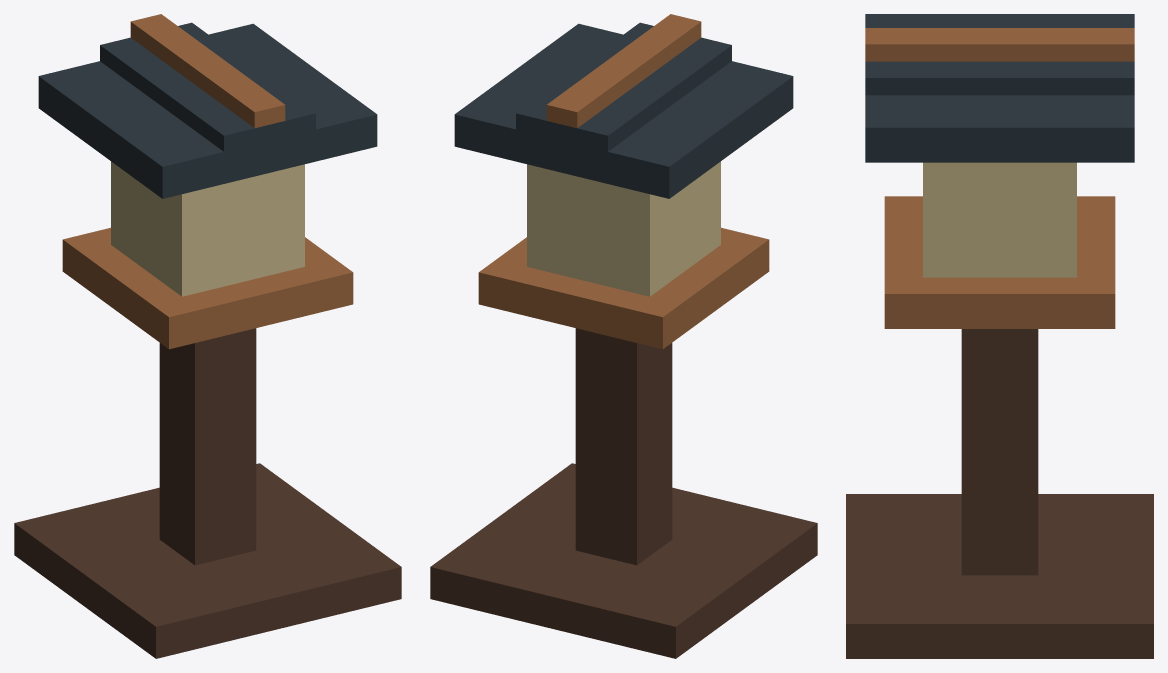
Rendered from landmark.glb.
3 views of the same model, side by side, from view 1: azimuth 30°, elevation 25°; view 2: azimuth 150°, elevation 25°; view 3: azimuth 270°, elevation 25° (orthographic). The views are drawn at different scales.
Parts seen in each view (by area): view 1: Shell; view 2: Shell; view 3: Shell.
Part boxes in pixels (x1,y1,x2,y2): Shell: (14,14,401,658); Shell: (430,14,817,658); Shell: (846,14,1153,658).
Size of the model in its own units: 2 by 4 by 2.
